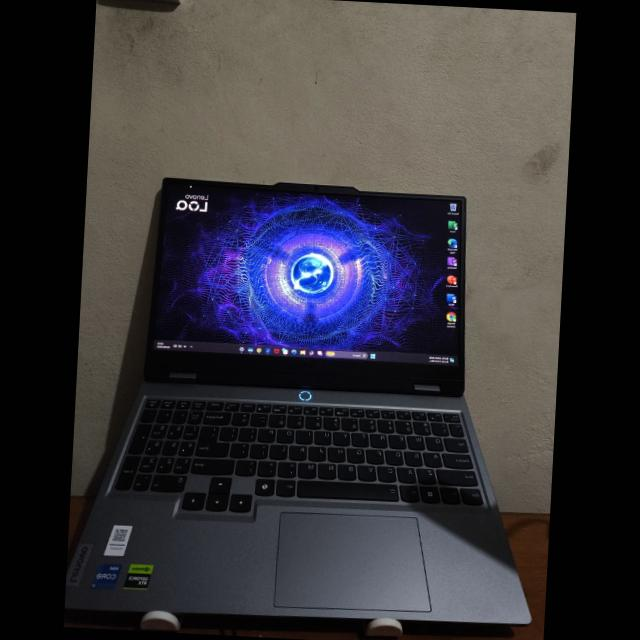laptop: (65, 176, 529, 626)
